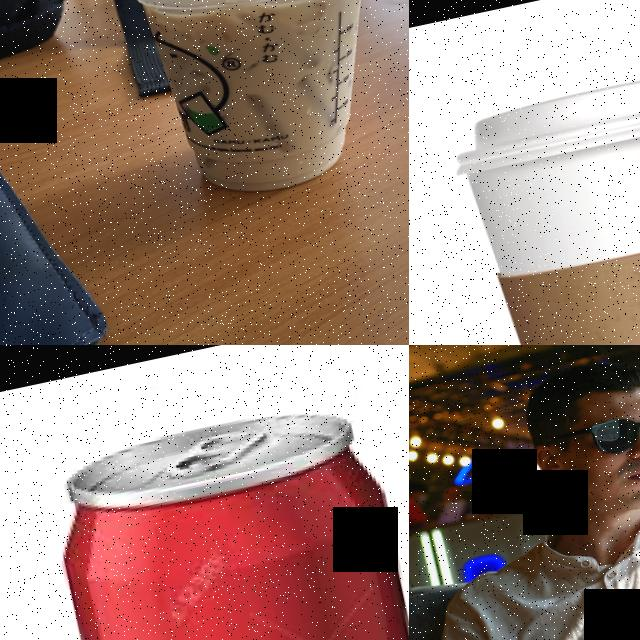can: (38, 392, 409, 640)
cup: (91, 0, 409, 218), (438, 54, 640, 345)
